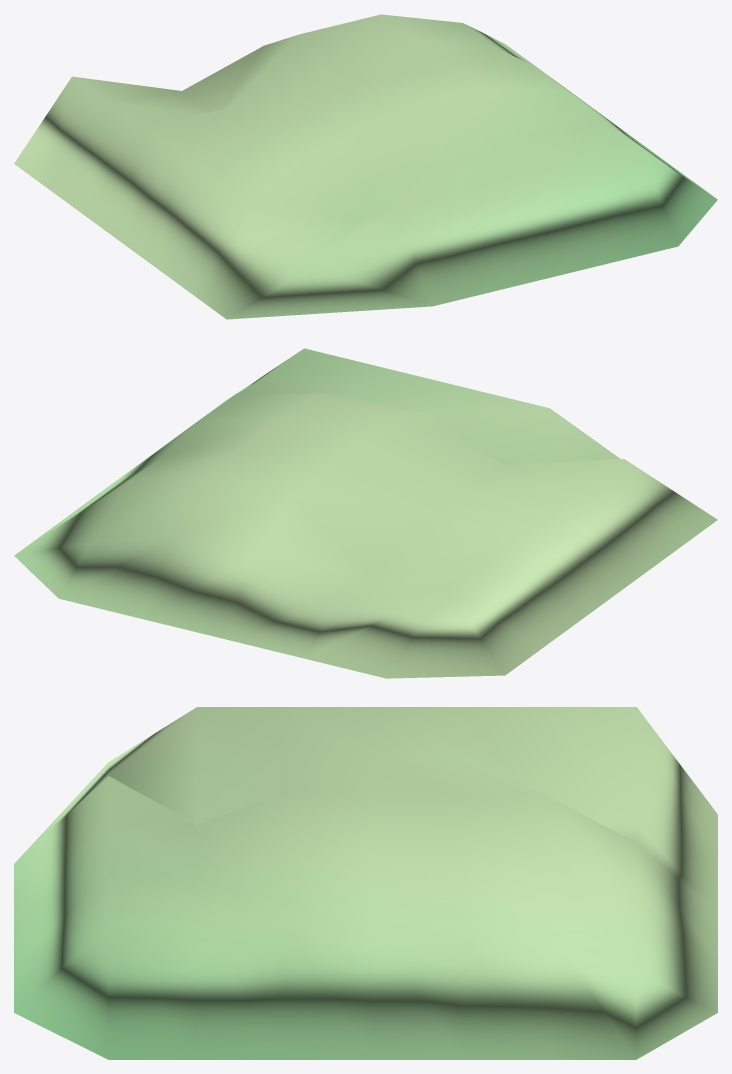
The model's file is Test_coline1fbx.fbx.
The picture shows the model from 3 angles, top to bottom: view 1: azimuth 30°, elevation 25°; view 2: azimuth 150°, elevation 25°; view 3: azimuth 270°, elevation 25°; orthographic projection. The views are drawn at different scales.
Visible parts, largest first — view 1: Test_coline; view 2: Test_coline; view 3: Test_coline.
Part boxes in pixels (left/top/right/bottom): Test_coline: left=14, top=14, right=717, bottom=319; Test_coline: left=14, top=348, right=717, bottom=678; Test_coline: left=14, top=707, right=717, bottom=1059.
Bounding box in the file's own units: 10 × 1.89 × 10.
